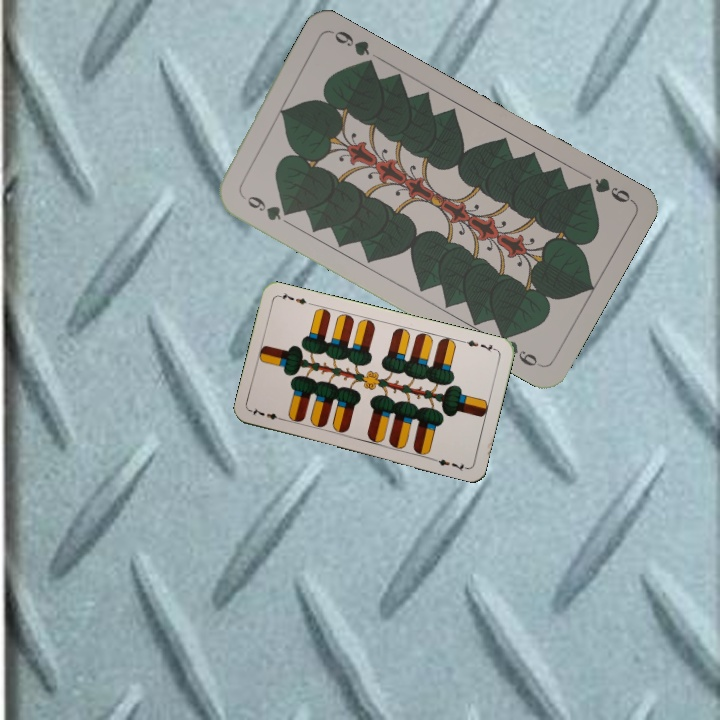E7: (459, 336, 499, 355), (248, 404, 288, 423)
G9: (576, 173, 635, 206), (237, 190, 294, 224)
